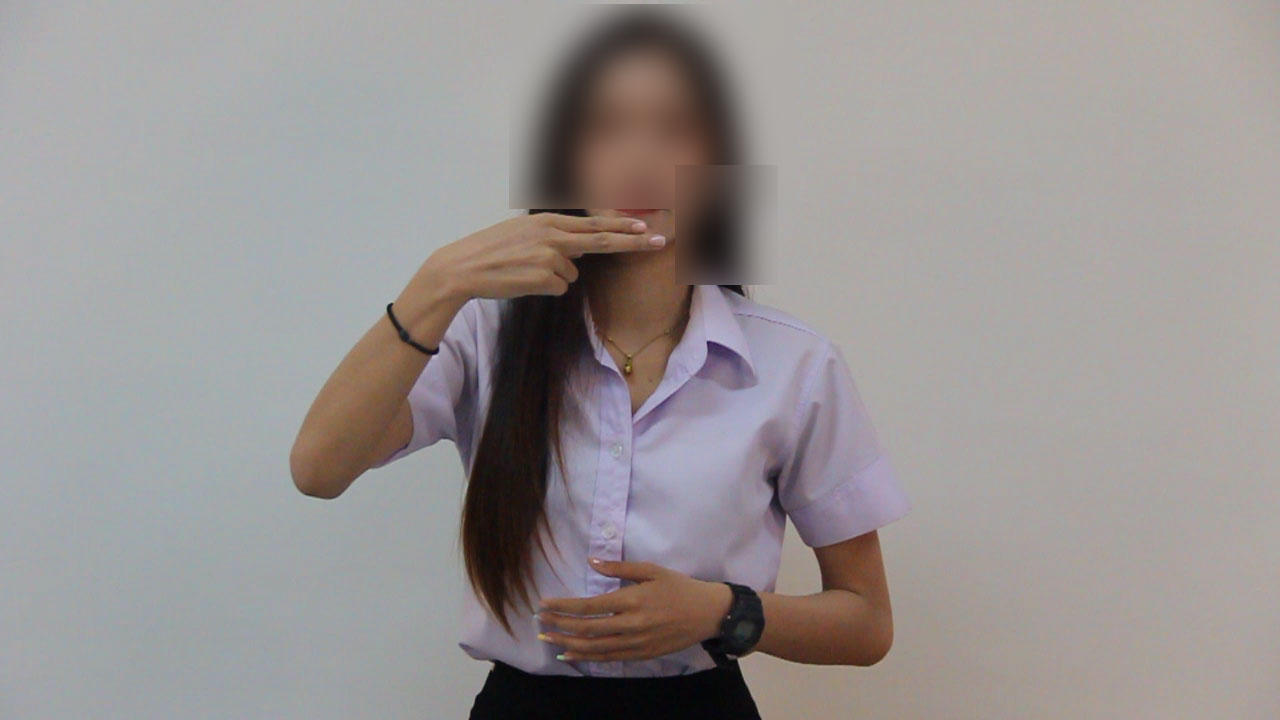hor: (416, 202, 675, 310)
